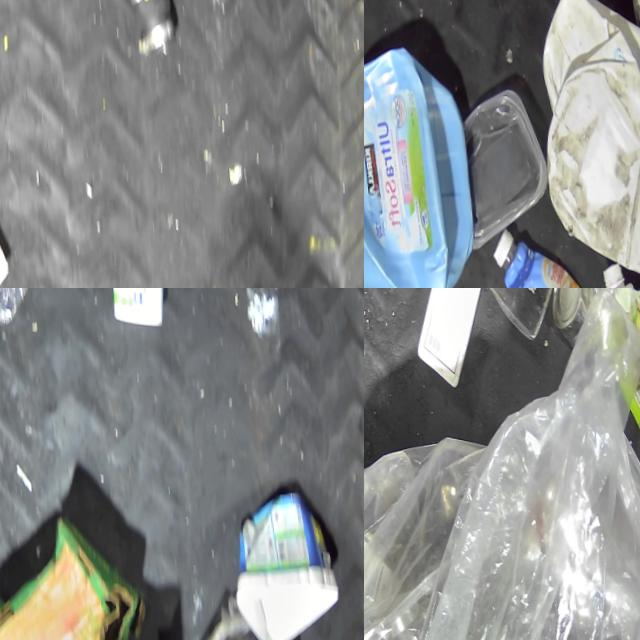can: (541, 288, 612, 348)
milk_jug: (528, 25, 640, 284), (530, 0, 640, 152), (399, 288, 494, 387)
non_white_jug: (364, 42, 478, 288)
plastic_bottle: (620, 0, 640, 135)
